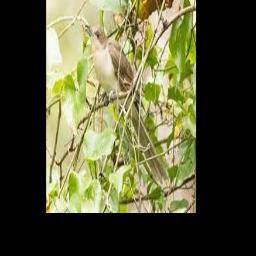Cuckoo: (86, 23, 169, 186)
